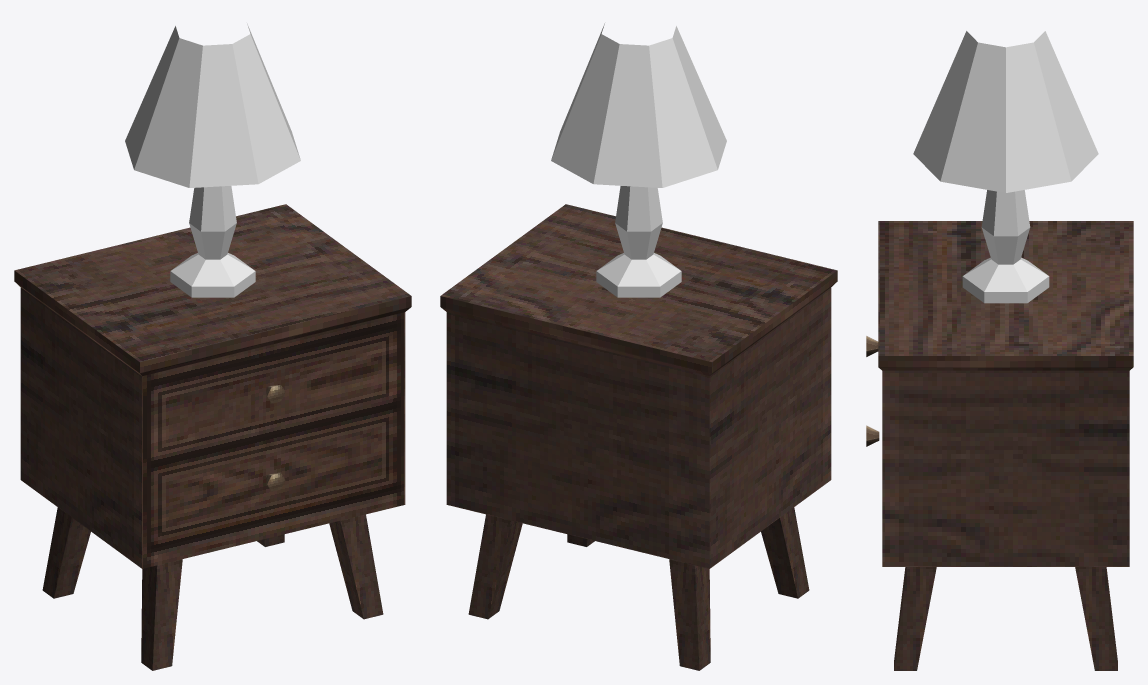
File: NightStand.glb
3 views of the same model, side by side, from view 1: azimuth 30°, elevation 25°; view 2: azimuth 150°, elevation 25°; view 3: azimuth 270°, elevation 25° (orthographic).
Parts seen in each view (by area): view 1: NightStand, Cylinder, Cylinder.001; view 2: NightStand, Cylinder, Cylinder.001; view 3: NightStand, Cylinder, Cylinder.001.
Boxes of the visible parts, <box> form: NightStand: <box>14,204,411,670</box>; Cylinder: <box>125,23,300,187</box>; Cylinder.001: <box>170,186,255,297</box>; NightStand: <box>440,204,837,670</box>; Cylinder: <box>551,23,726,187</box>; Cylinder.001: <box>596,186,681,297</box>; NightStand: <box>866,221,1133,670</box>; Cylinder: <box>913,31,1098,192</box>; Cylinder.001: <box>962,190,1049,303</box>.
Size of the model in its own units: 0.5165 by 1.04 by 0.4325.
Materials: 1 (1 with a texture image).
